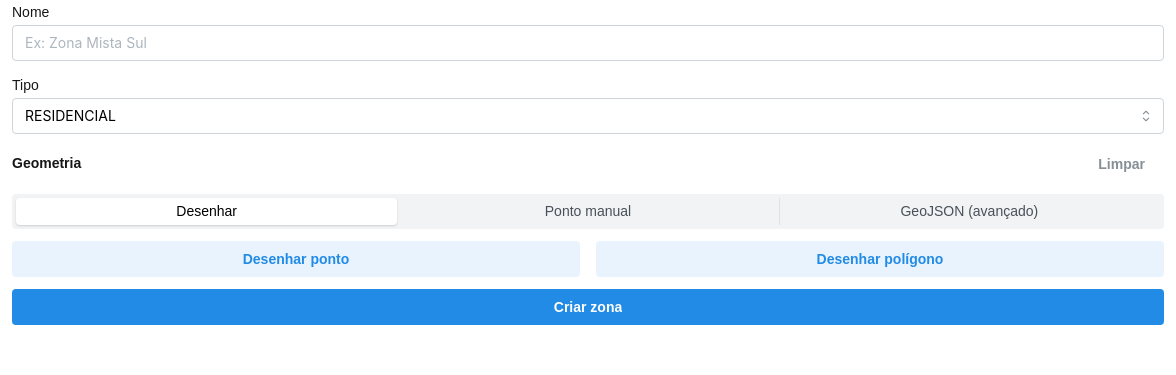
ZoneForm › blocks submit when geometry is missing
Type "Zona Teste" into the field labelled "Nome" at coordinates (588, 43), box x1=12 y1=25 x2=1164 y2=61
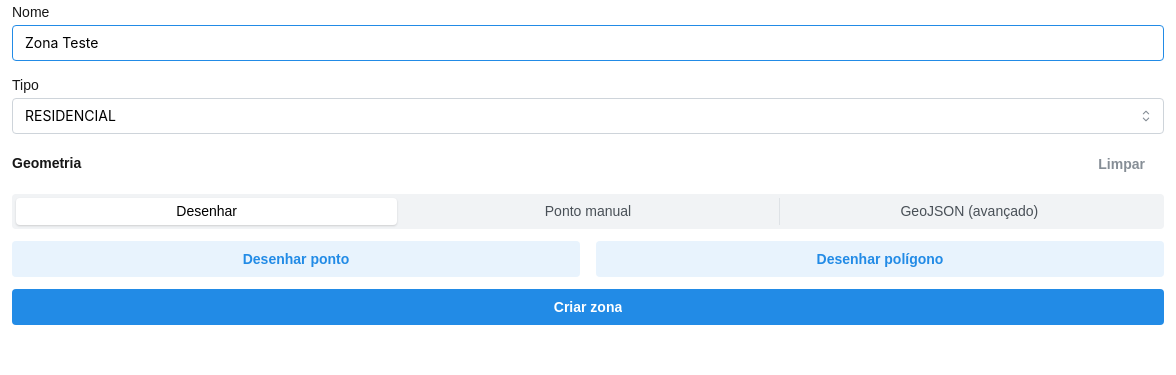
Click the button "Criar zona" at coordinates (588, 307), box x1=12 y1=289 x2=1164 y2=325
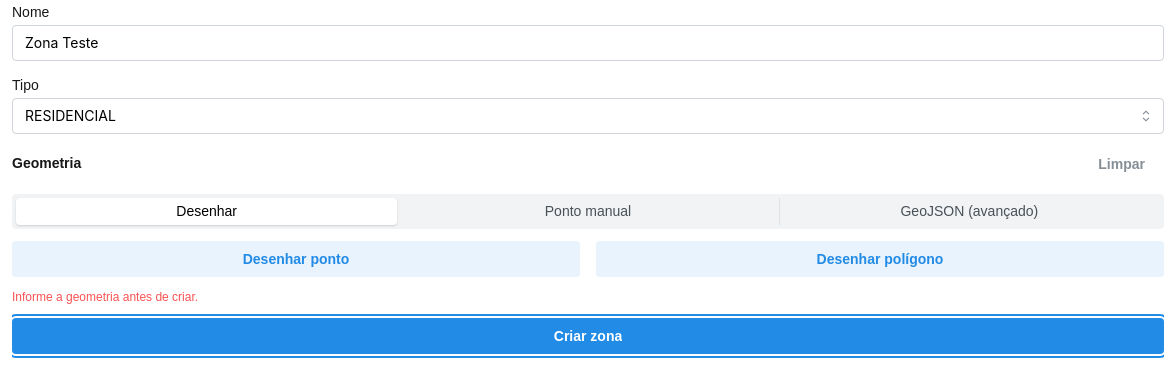
Result: the text "Informe a geometria antes de criar." is shown at x1=12 y1=290 x2=198 y2=304
